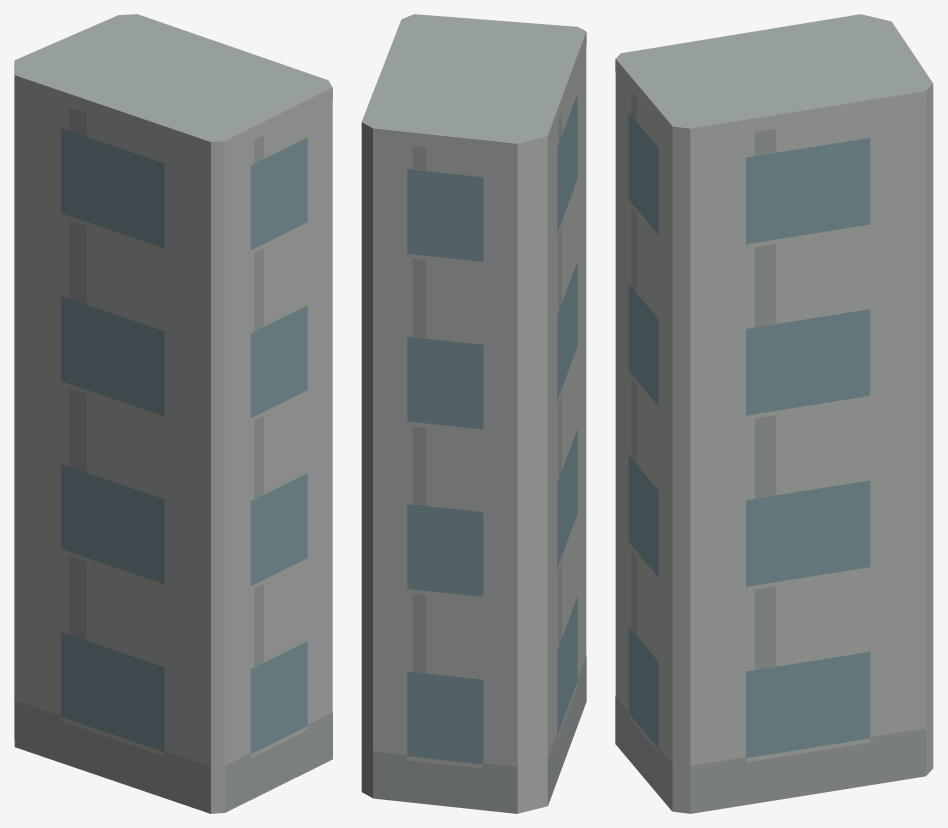
File: survey-upis-32927460.glb
3 views of the same model, side by side, from view 1: azimuth 30°, elevation 25°; view 2: azimuth 150°, elevation 25°; view 3: azimuth 270°, elevation 25° (orthographic). The views are drawn at different scales.
Parts seen in each view (by area): view 1: survey-upis-32927460.tmp; view 2: survey-upis-32927460.tmp; view 3: survey-upis-32927460.tmp.
Part boxes in pixels (x1,y1,x2,y2): survey-upis-32927460.tmp: [14, 14, 332, 813]; survey-upis-32927460.tmp: [361, 14, 586, 813]; survey-upis-32927460.tmp: [615, 14, 933, 813].
Size of the model in its own units: 4.38 by 12.2 by 5.14.
